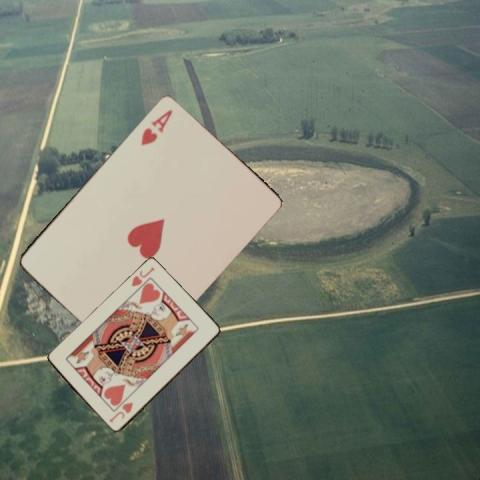Ah: (137, 106, 174, 147)
Jh: (106, 399, 134, 425), (128, 264, 156, 289)
